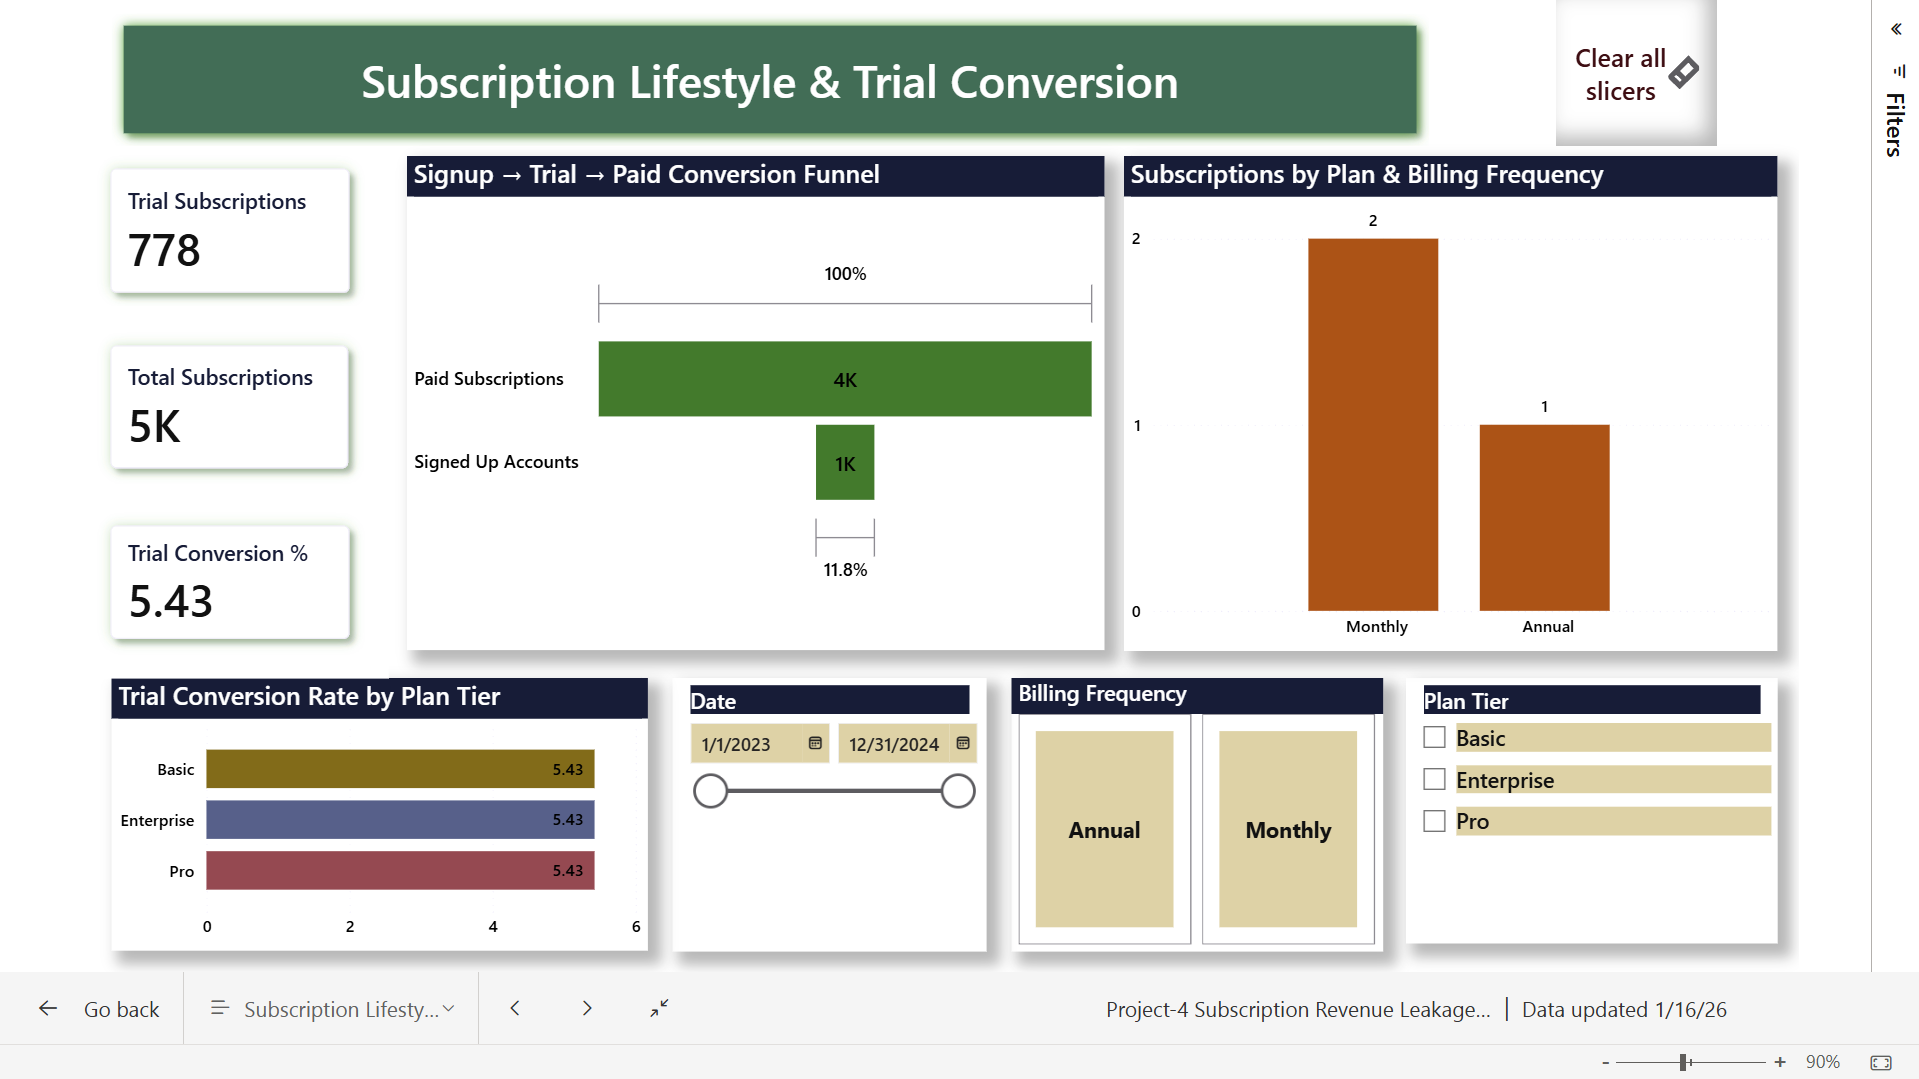

What the dashboard file says about the page in this screenshot:
{"tool":"powerbi","page":{"name":"Subscription Lifestyle & Trial Conversion","canvas":[1280,720],"ordinal":1},"visuals":[{"type":"cardVisual","fields":{"Data":["_Measures.Trial Subscriptions"]},"box":[0,96.1,235.2,150.7],"z":1000},{"type":"cardVisual","fields":{"Data":["_Measures.Total Subscriptions"]},"box":[0,226.8,234.9,149.9],"z":4000},{"type":"funnel","title":"Signup → Trial → Paid Conversion Funnel","fields":{"Category":["Funnel_Stage.Stage"],"Y":["Dim_Account.Funnel Value"]},"box":[248.5,116,516.8,366.1],"z":5000},{"type":"advancedSlicerVisual","fields":{"Values":["Dim_Plan.Billing Frequency"]},"box":[696.7,502.3,275.4,202.5],"z":6000},{"type":"slicer","fields":{"Values":["Dim_Plan.Plan Tier"]},"box":[988.4,502.3,275.4,196.5],"z":7000},{"type":"slicer","fields":{"Values":["Dim_Date.Date"]},"box":[445.6,502.3,232.9,202.5],"z":8000},{"type":"clusteredBarChart","title":"Trial Conversion Rate by Plan Tier","fields":{"Category":["Dim_Plan.Plan Tier"],"Y":["_Measures.Trial Conversion %"]},"box":[29.8,501.9,397.6,202.1],"z":9000},{"type":"columnChart","title":"Subscriptions by Plan & Billing Frequency","fields":{"Category":["Dim_Plan.Billing Frequency"],"Y":["CountNonNull(Dim_Plan.Plan Tier)"]},"box":[779.7,115.4,484.1,366.6],"z":10000},{"type":"cardVisual","fields":{"Data":["_Measures.Trial Conversion %"]},"box":[0,359.5,235.2,142.5],"z":11000},{"type":"actionButton","box":[1099.9,0,119.3,107.7],"z":12000},{"type":"shape","box":[29.8,9.9,975.7,97.7],"z":13000}]}

Visuals, with their boxes on the page's 1280x720 design canvas (x1, y1, x2, y2). These are canvas units, not pixel positions in the 1919x1079 screenshot, which may show the page scaled, cropped or inside an application window:
cardVisual - _Measures.Trial Subscriptions: bbox=[0, 96, 235, 247]
cardVisual - _Measures.Total Subscriptions: bbox=[0, 227, 235, 377]
"Signup → Trial → Paid Conversion Funnel" funnel: bbox=[248, 116, 765, 482]
advancedSlicerVisual - Dim_Plan.Billing Frequency: bbox=[697, 502, 972, 705]
slicer - Dim_Plan.Plan Tier: bbox=[988, 502, 1264, 699]
slicer - Dim_Date.Date: bbox=[446, 502, 678, 705]
"Trial Conversion Rate by Plan Tier" clusteredBarChart: bbox=[30, 502, 427, 704]
"Subscriptions by Plan & Billing Frequency" columnChart: bbox=[780, 115, 1264, 482]
cardVisual - _Measures.Trial Conversion %: bbox=[0, 360, 235, 502]
actionButton: bbox=[1100, 0, 1219, 108]
shape: bbox=[30, 10, 1006, 108]
